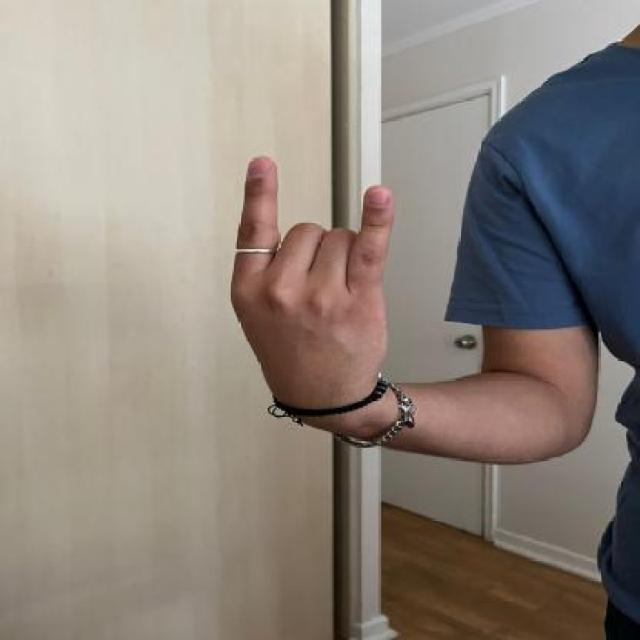U: (225, 147, 402, 395)
